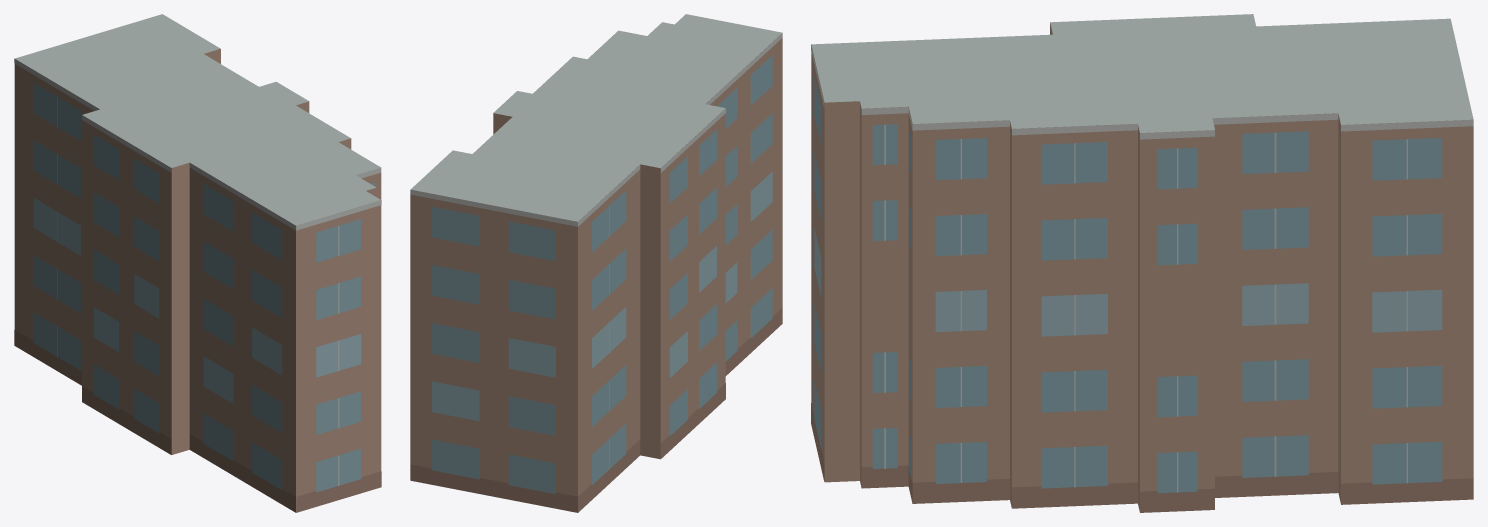
File: survey-upis-32620015.glb
3 views of the same model, side by side, from view 1: azimuth 30°, elevation 25°; view 2: azimuth 150°, elevation 25°; view 3: azimuth 270°, elevation 25° (orthographic). The views are drawn at different scales.
Visible parts, largest first — view 1: survey-upis-32620015.tmp; view 2: survey-upis-32620015.tmp; view 3: survey-upis-32620015.tmp.
Part boxes in pixels (x1,y1,x2,y2): survey-upis-32620015.tmp: [14, 14, 381, 512]; survey-upis-32620015.tmp: [410, 14, 782, 512]; survey-upis-32620015.tmp: [811, 14, 1473, 512].
Size of the model in its own units: 9.56 by 14.2 by 22.46.
